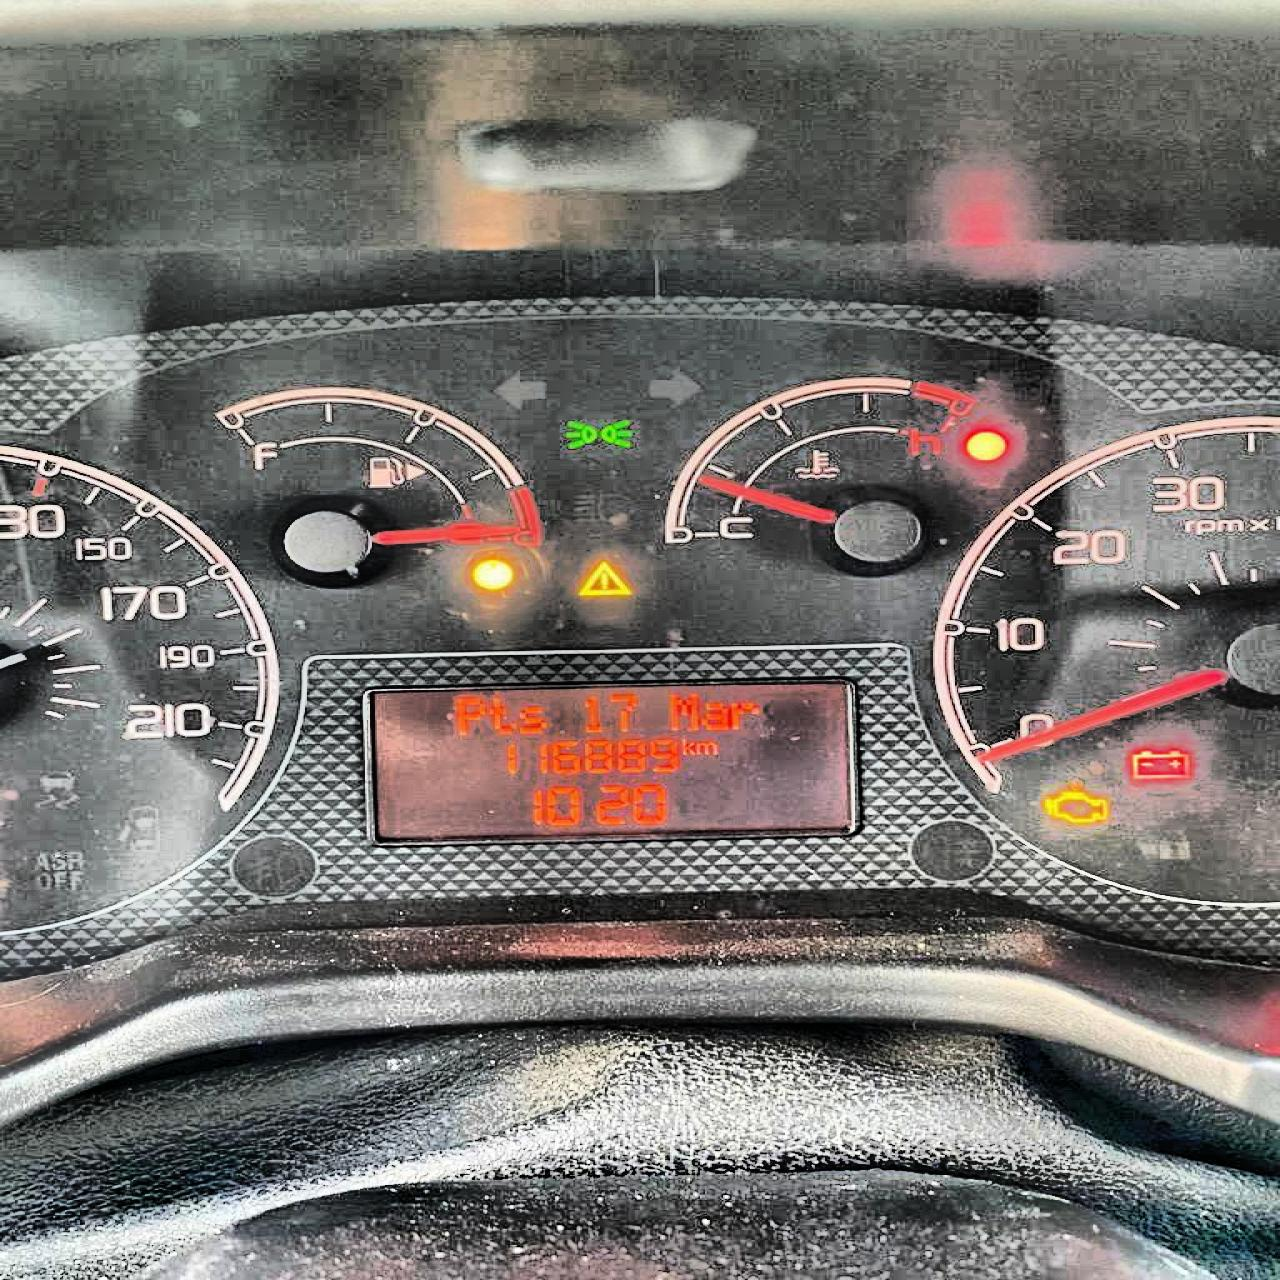0: (631, 783, 667, 825), (545, 784, 580, 828)
1: (581, 692, 601, 734), (502, 740, 518, 775), (529, 785, 542, 826), (536, 740, 546, 775)
2: (594, 783, 628, 825)
6: (550, 738, 580, 776)
7: (607, 692, 644, 733)
8: (581, 737, 612, 774), (615, 736, 645, 774)
9: (648, 736, 679, 774)
X: (667, 688, 699, 733), (485, 694, 517, 736), (454, 695, 483, 736), (518, 702, 549, 734), (731, 699, 761, 730), (702, 700, 728, 731), (695, 740, 716, 755), (680, 737, 693, 755)
odometer: (356, 680, 865, 843)
